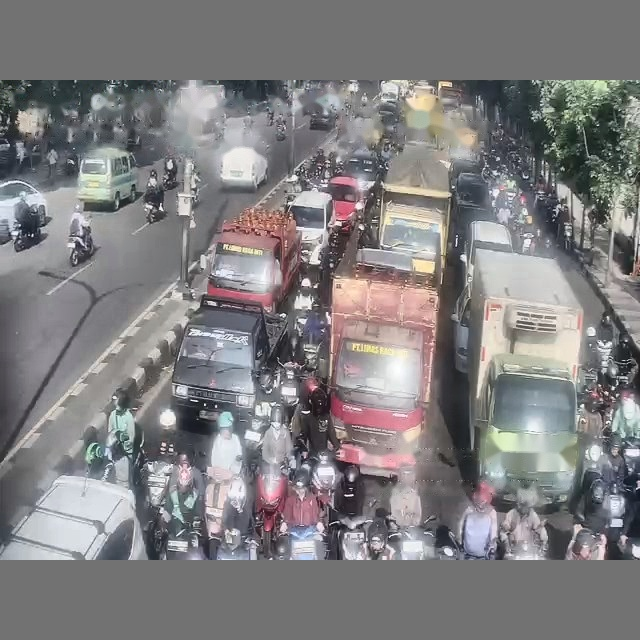Mobil: (0, 475, 147, 559), (0, 179, 49, 228), (343, 148, 382, 195), (451, 283, 470, 374), (452, 172, 490, 208), (449, 158, 482, 185), (309, 109, 338, 130)
Motor: (256, 462, 287, 558), (144, 460, 172, 557), (279, 526, 326, 559), (216, 530, 257, 560), (67, 229, 93, 267), (12, 221, 41, 251), (143, 201, 164, 223), (162, 171, 177, 190), (275, 124, 285, 140)
Truk: (467, 249, 583, 503), (328, 233, 438, 476), (171, 295, 289, 434), (378, 143, 450, 282), (207, 208, 301, 311)
